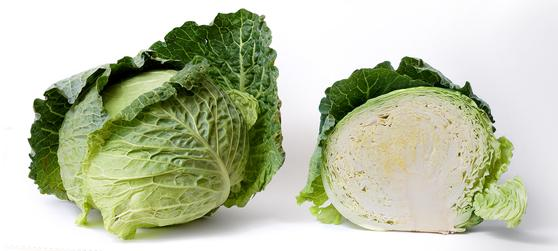cabbage: (47, 31, 293, 248)
